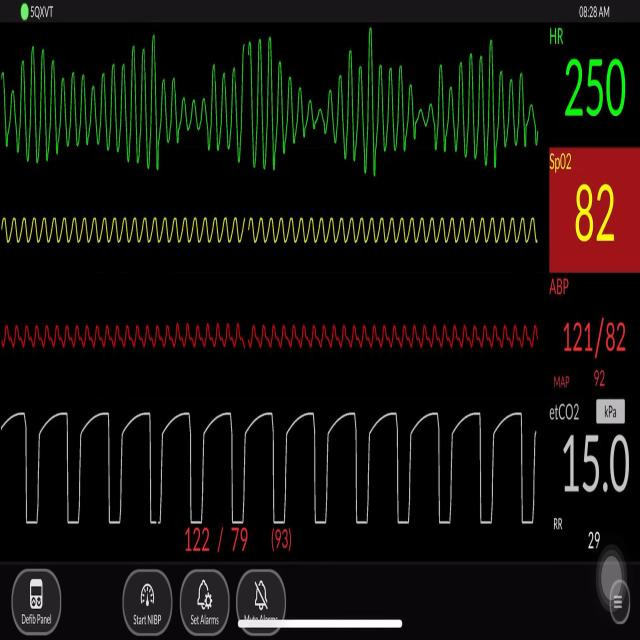danger: (10, 32, 543, 188)
